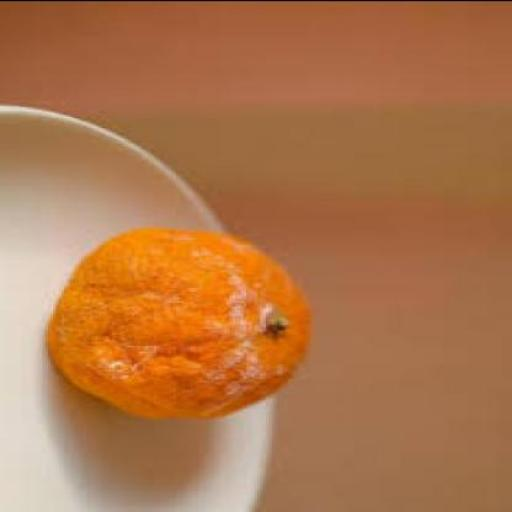biodegradable: (45, 228, 316, 423)
